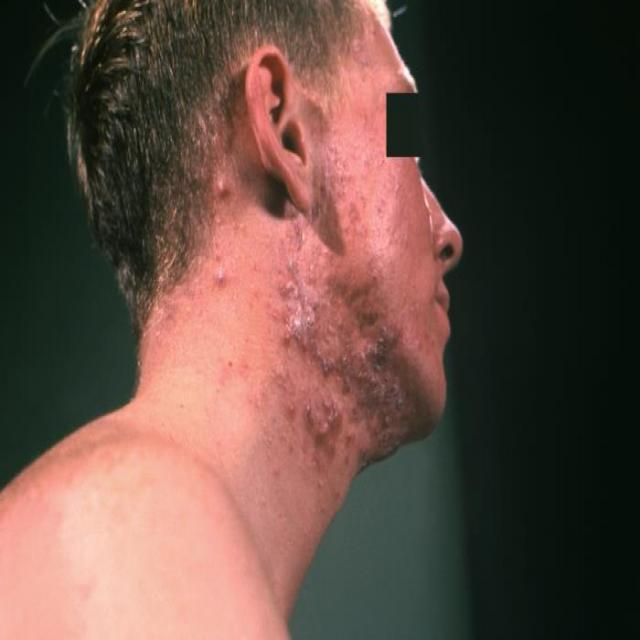acne: (202, 178, 423, 495)
